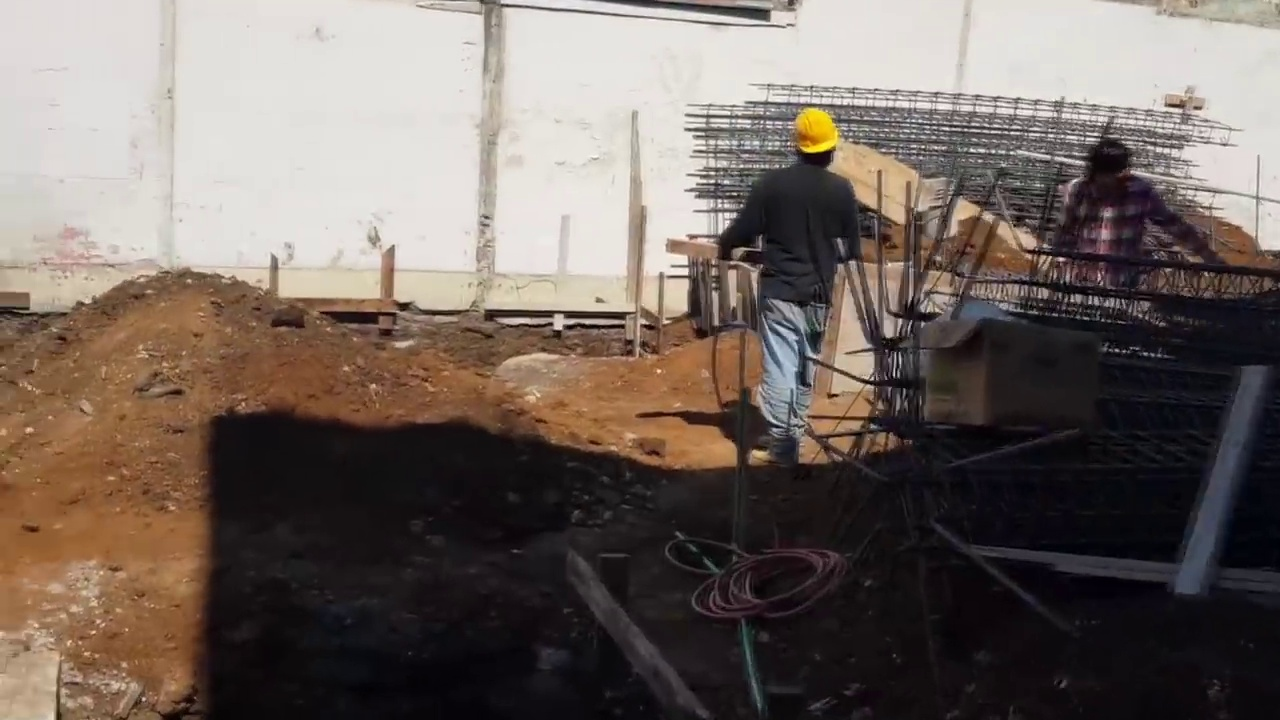helmet: (790, 108, 838, 155)
helmet-off: (1087, 133, 1134, 189)
helmet-on: (791, 108, 839, 171)
person: (722, 108, 864, 462), (1051, 136, 1228, 288)
